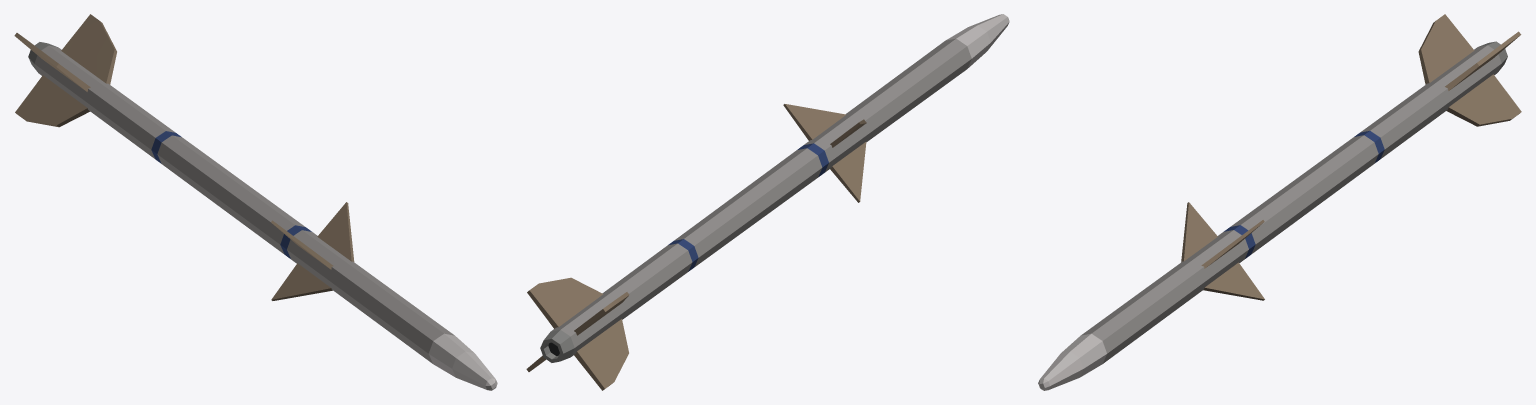
Rendered from SM_Prop_Missle_03.glb.
The picture shows the model from 3 angles, left to right: view 1: azimuth 30°, elevation 25°; view 2: azimuth 150°, elevation 25°; view 3: azimuth 330°, elevation 25°; orthographic projection.
Visible parts, largest first — view 1: SM_Prop_Missle_03; view 2: SM_Prop_Missle_03; view 3: SM_Prop_Missle_03.
Part boxes in pixels (box(x1,y1,x2,y2)): SM_Prop_Missle_03: box(14, 14, 497, 390); SM_Prop_Missle_03: box(526, 14, 1009, 390); SM_Prop_Missle_03: box(1038, 14, 1521, 390).
Size of the model in its own units: 0.3814 by 0.3814 by 3.79.
Materials: 1 (1 with a texture image).
